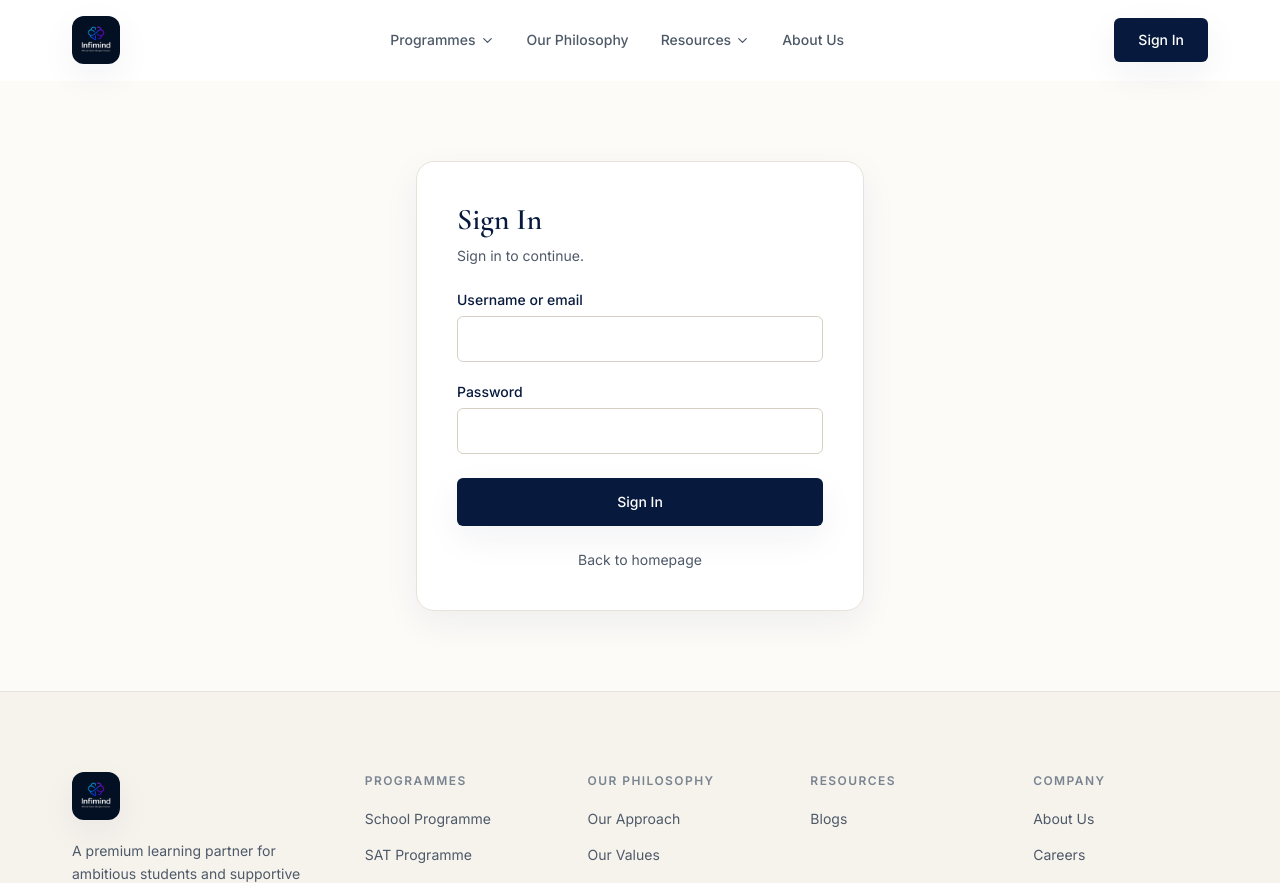
Scenario: SignIn › always returns a generic invalid-credentials response
Type "anyone@example.com" into the field labelled "Username or email".
click(640, 339); type("anyone@example.com")  # box [457,316,823,362]
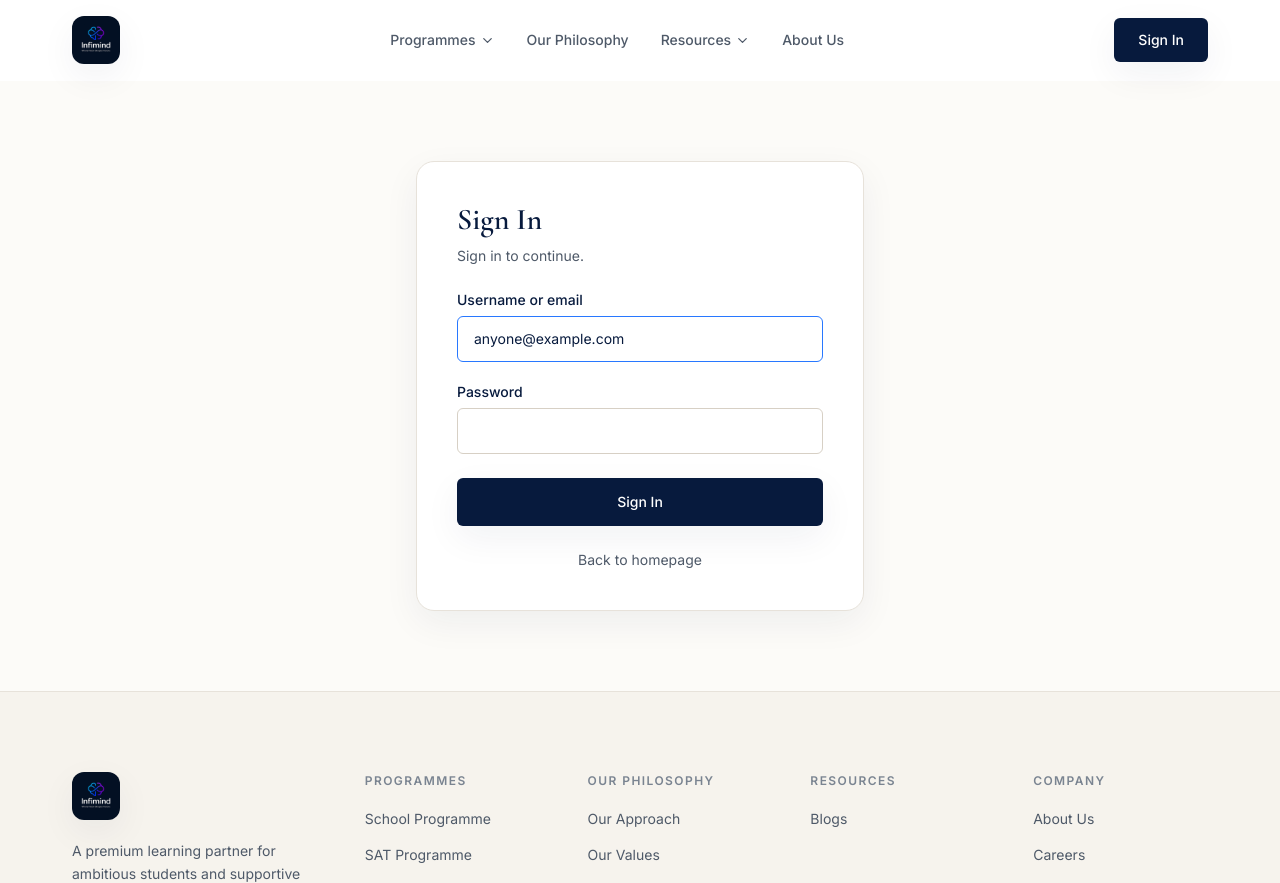
Type "any-password" into the password field labelled "Password".
click(640, 431); type("any-password")  # box [457,408,823,454]
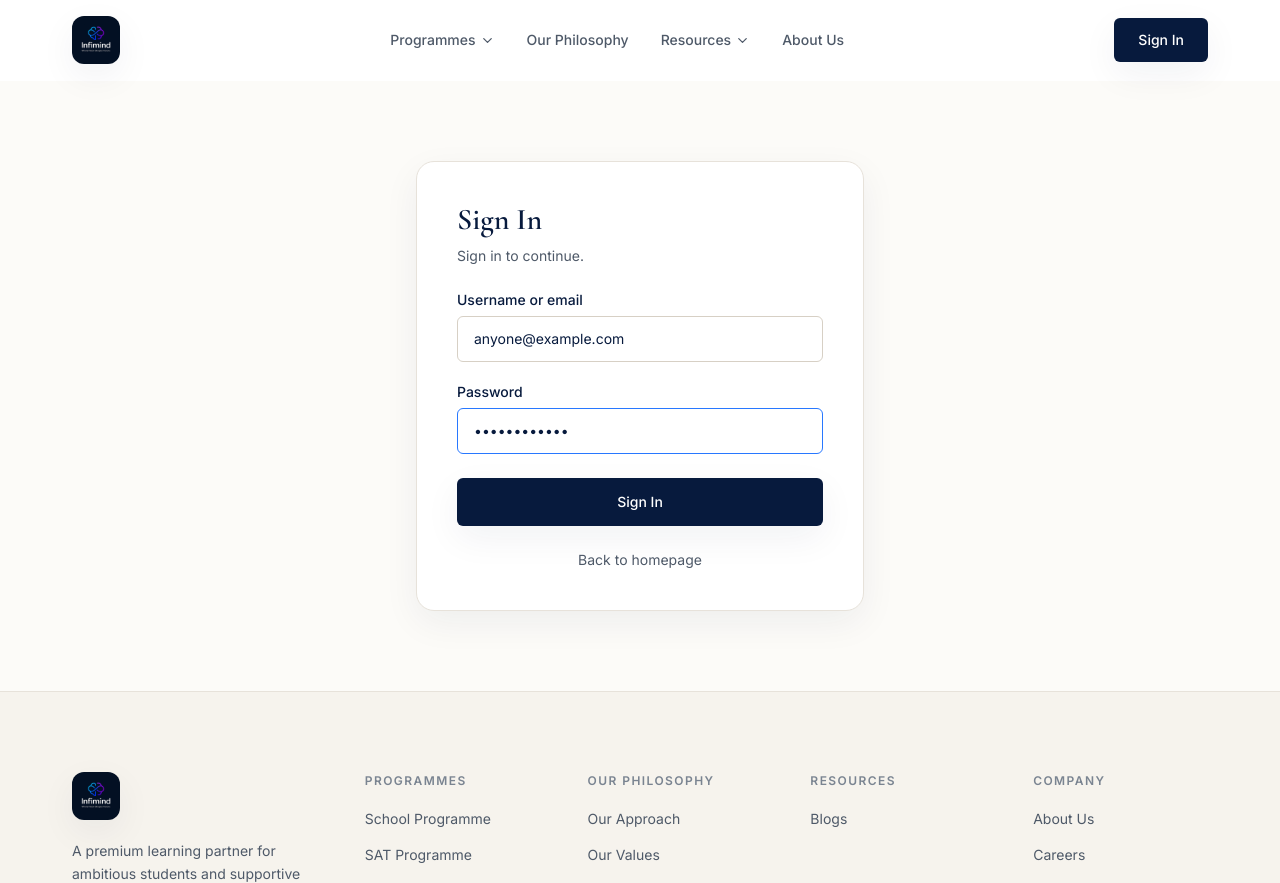
Click the button "Sign In".
click(640, 502)  # box [457,478,823,526]
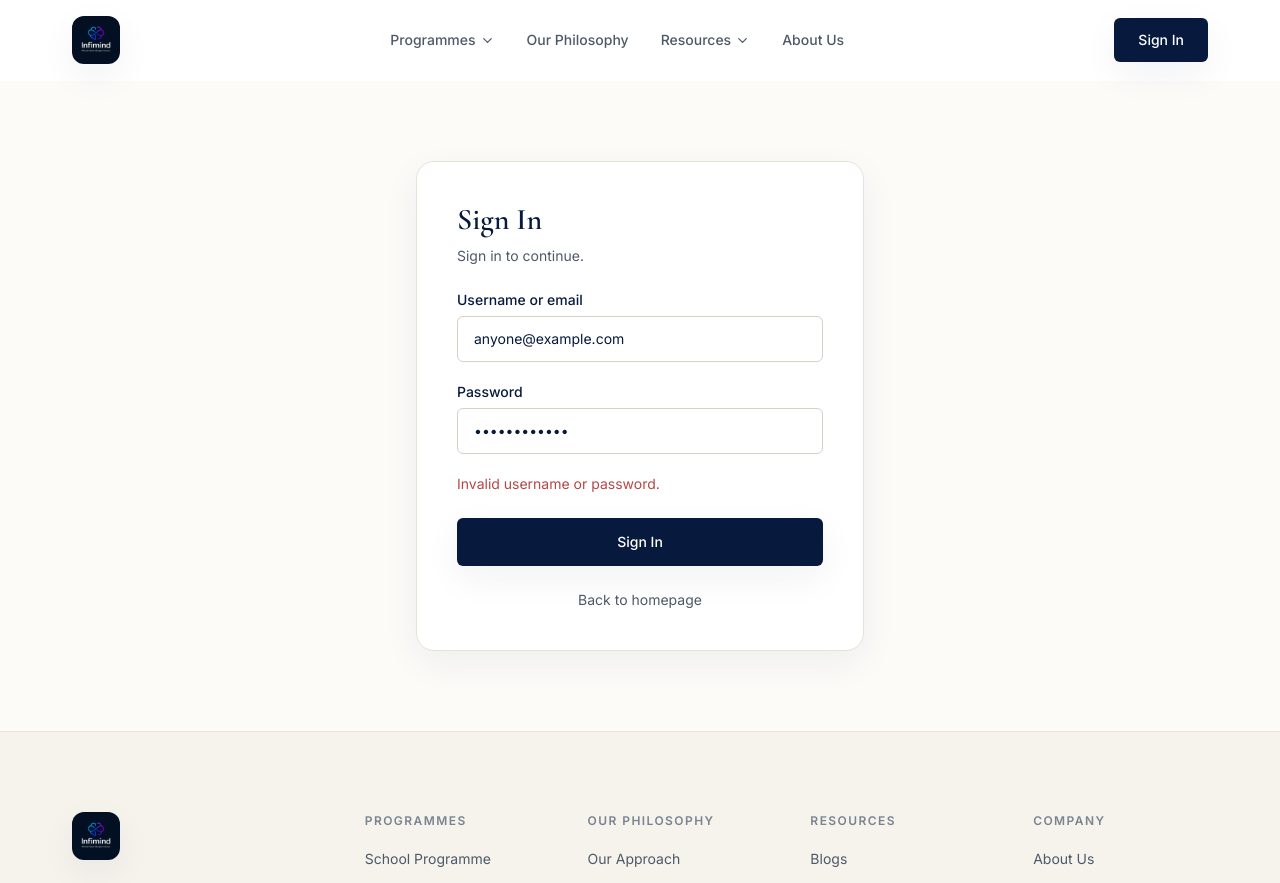
expect the message reads "Invalid username or password.": met, box [457,475,660,492]
